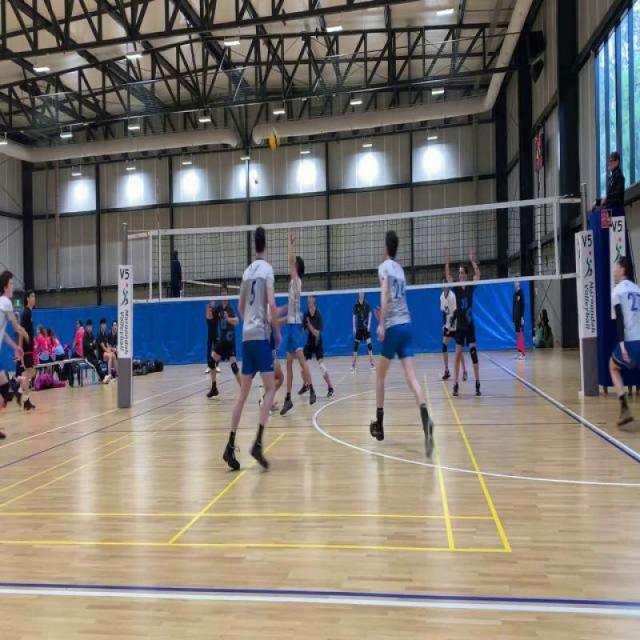volleyball: (268, 131, 281, 154), (254, 178, 258, 185)
